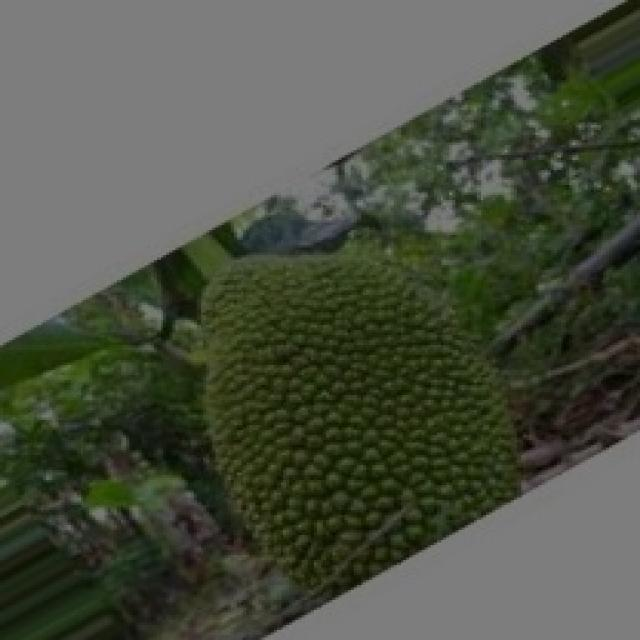Fruit: (160, 195, 572, 617)
